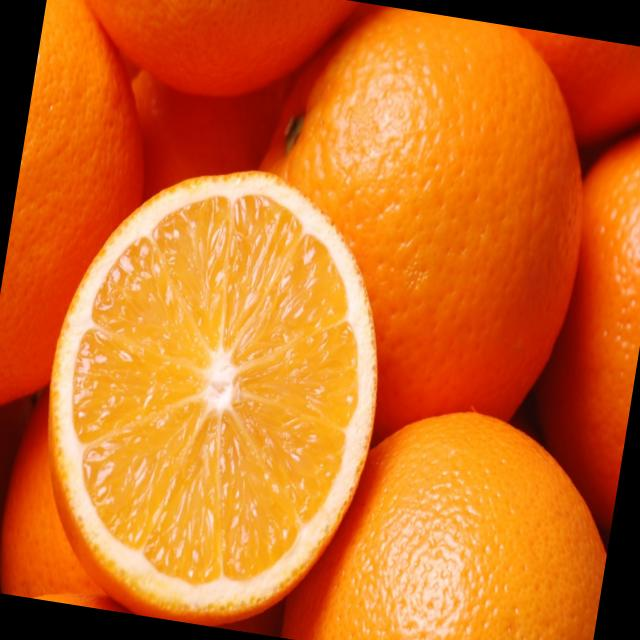orange: (178, 0, 620, 476), (275, 380, 626, 640)
